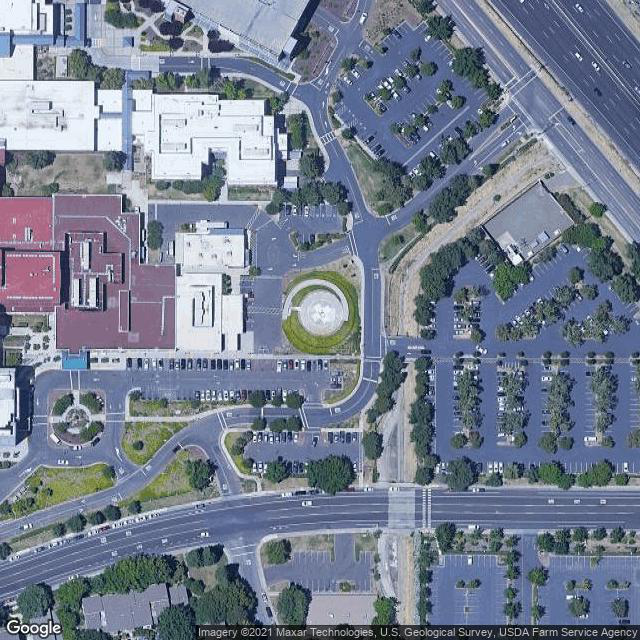Helipad: (300, 293, 347, 335)
